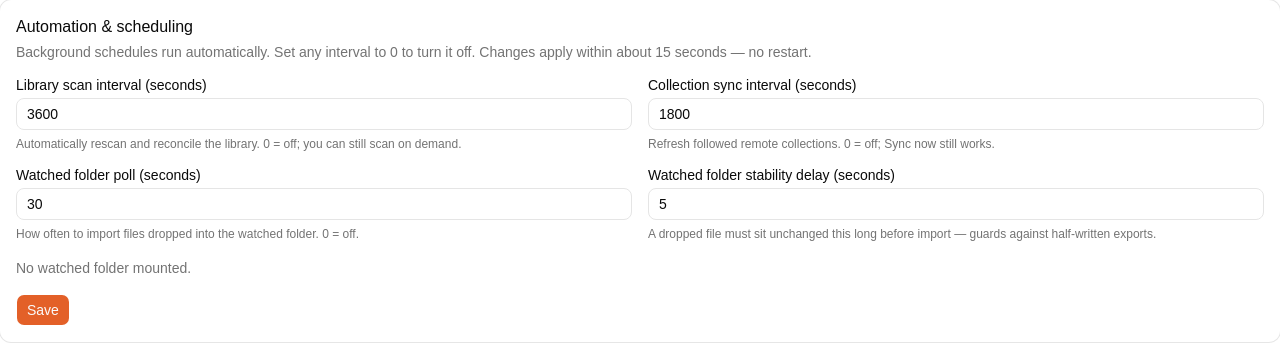
Test case: AutomationCard › PUTs the edited body -- carrying printer_enabled through unchanged -- and shows Saved.
The width and height of the screenshot is (1280, 360).
Step 1. Replace the text in the number field labelled "Library scan interval (seconds)" with "60" → x=324, y=114, box [16,98,632,130]
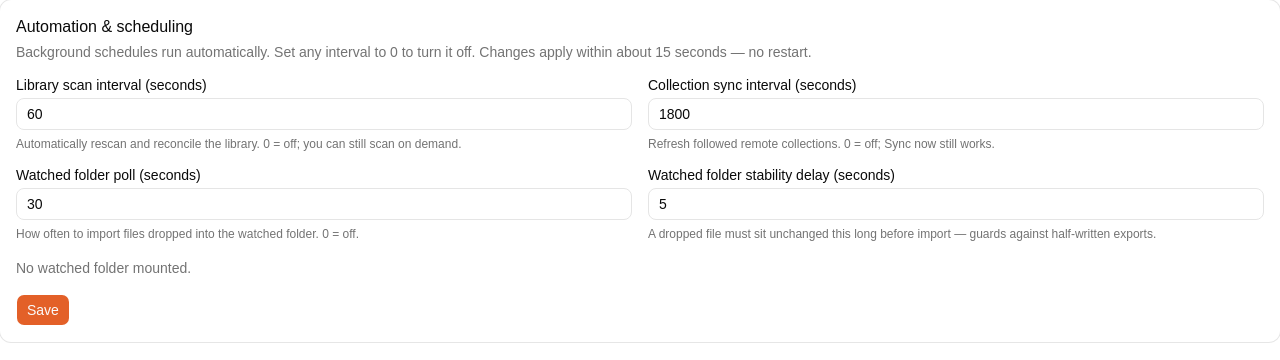
Step 2. Click the button "Save" → x=43, y=310, box [16,294,70,326]
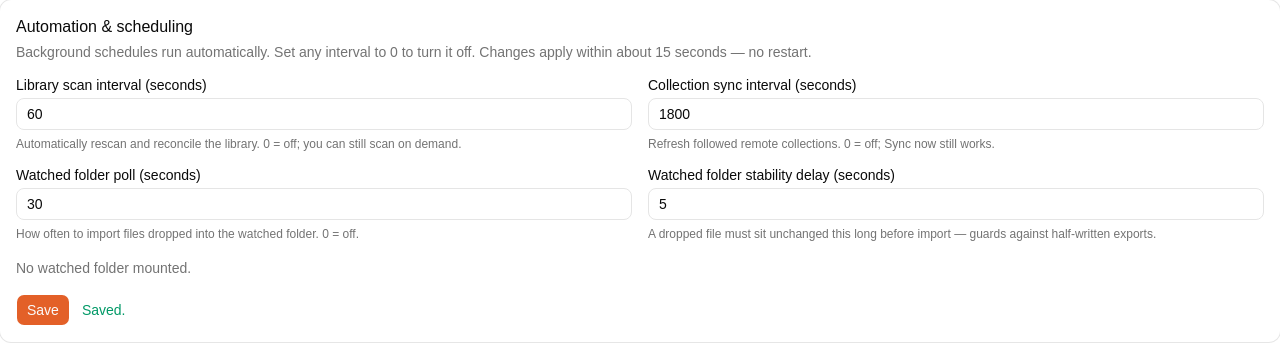
expect the text "Saved." is shown: met, box [82,300,126,320]
